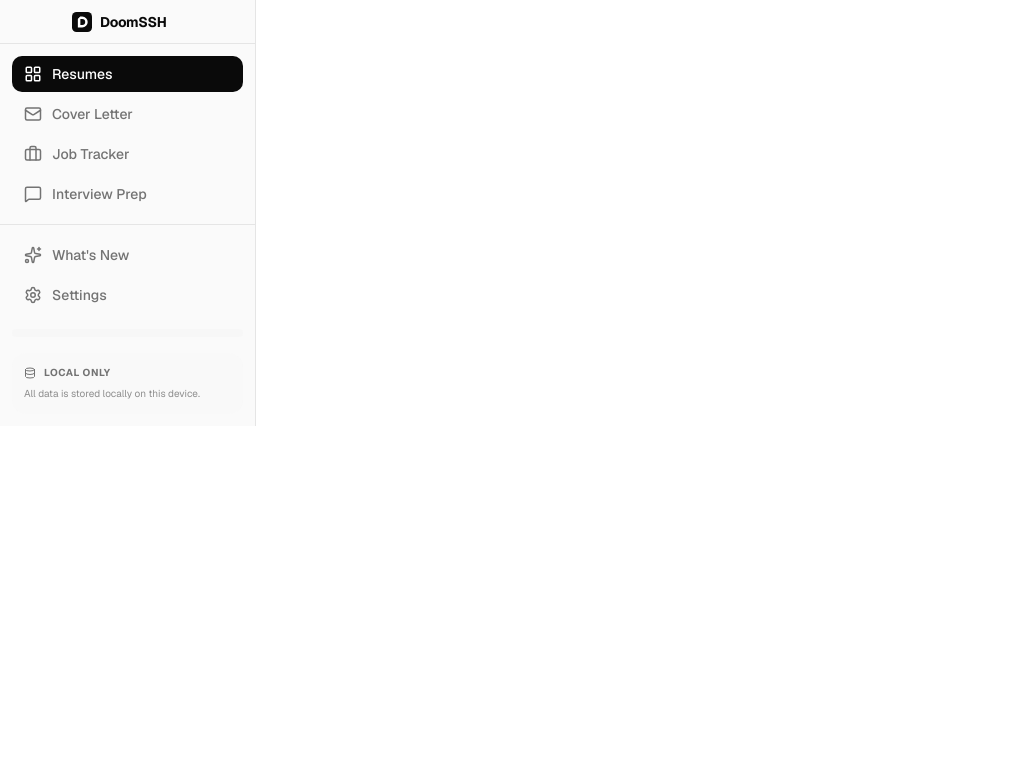
Test: Sidebar Settings & Bug Mode › should show the bug mode description in settings
What coordinates should you click on to do the following:
click the button "Settings"
I would click on:
 (128, 295)
Its box is [12, 277, 243, 313].
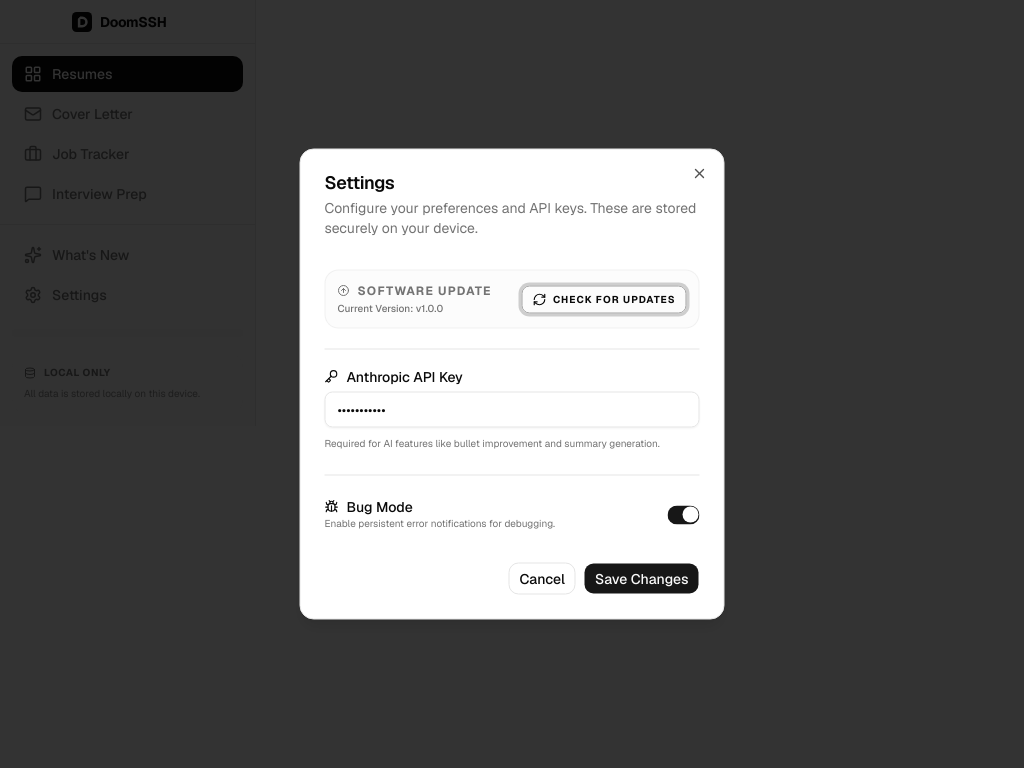
Expected: the text "Enable persistent error notifications for debugging." is shown, [324, 516, 555, 530]
